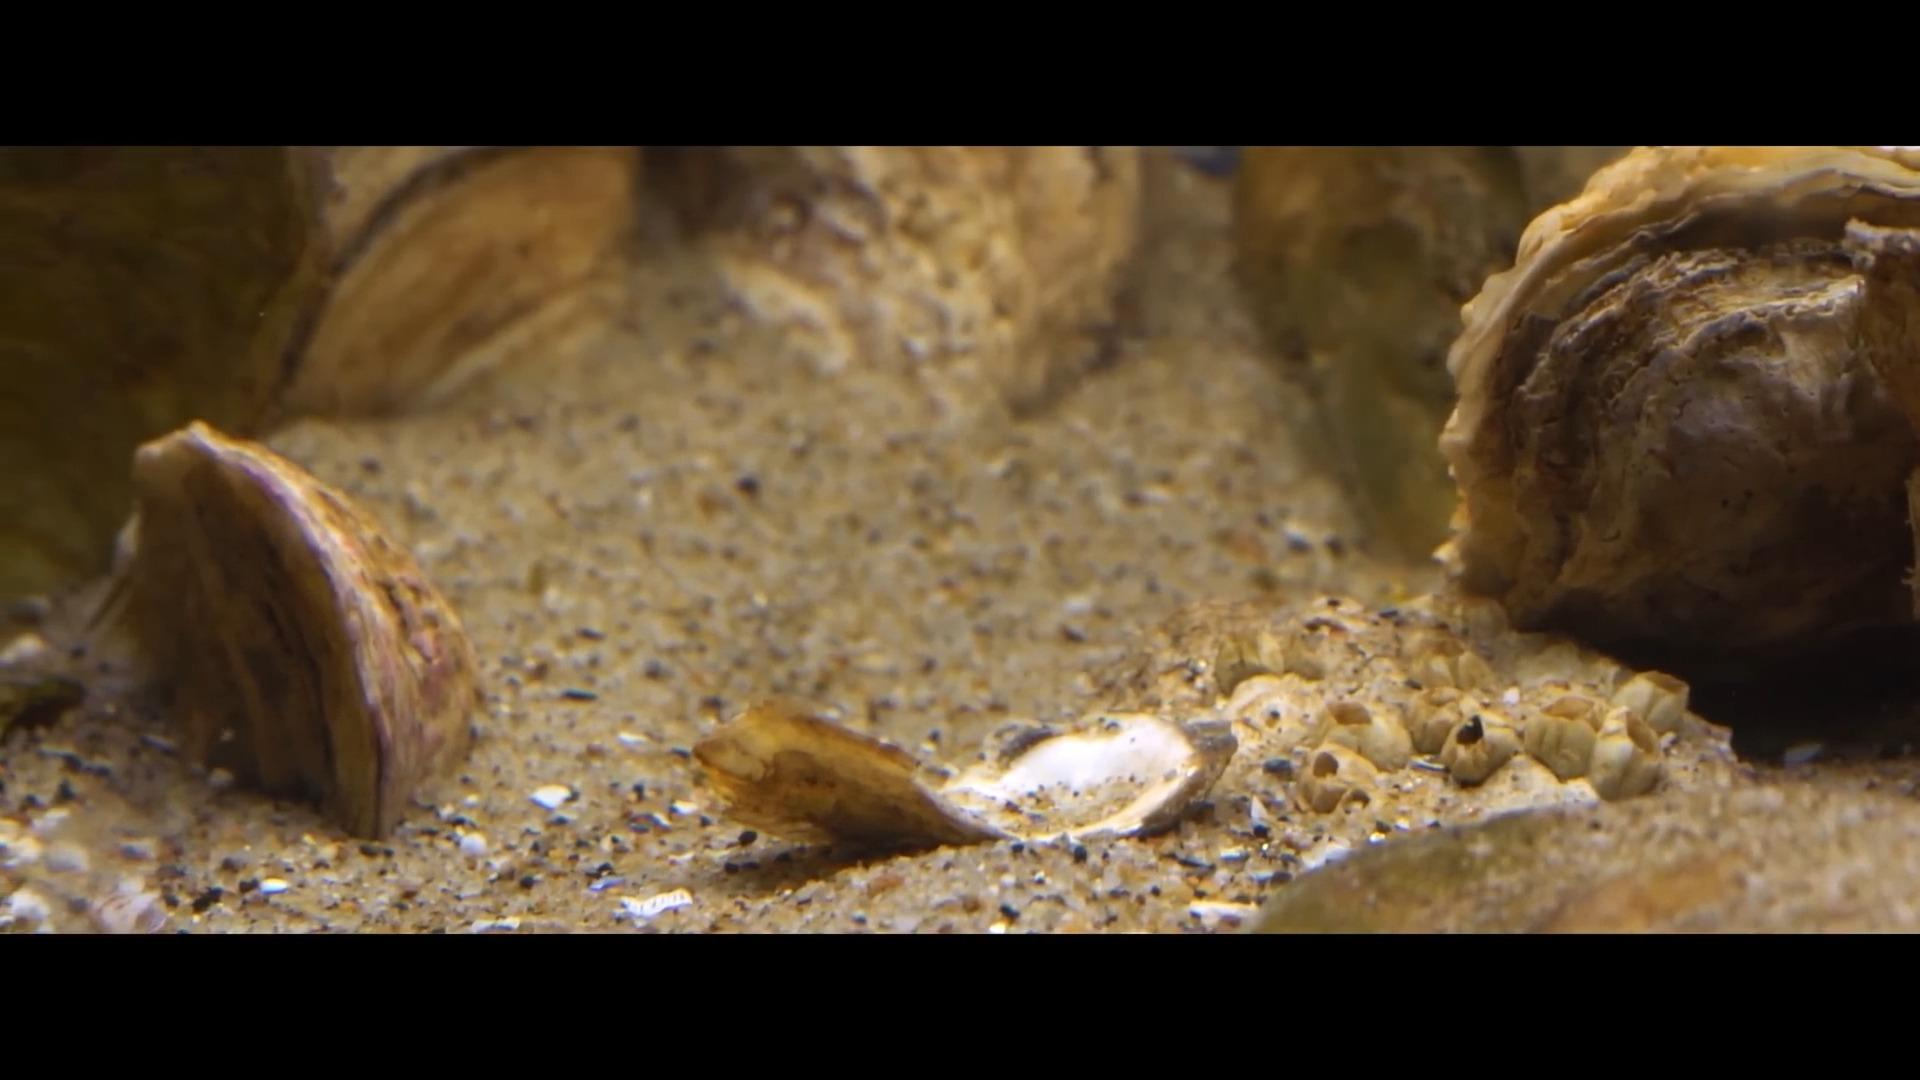Oyster: (1445, 152, 1919, 695), (58, 433, 476, 851), (1234, 144, 1618, 593), (684, 141, 1137, 414), (252, 148, 634, 431)
